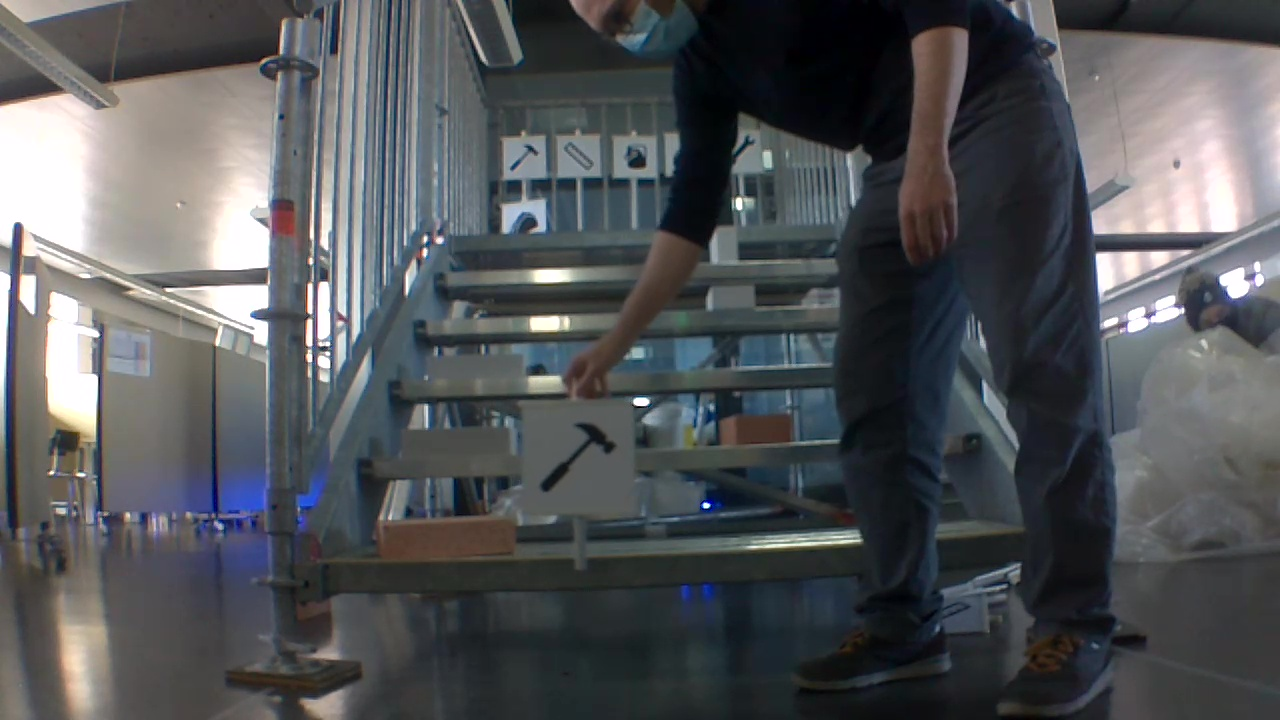brick: (379, 518, 514, 558), (402, 424, 514, 462), (428, 352, 527, 382), (720, 413, 790, 442), (706, 287, 754, 310), (712, 225, 736, 261)
bucket: (620, 142, 650, 168)
hammer: (528, 417, 622, 500), (503, 139, 544, 174)
ruler: (561, 141, 595, 172)
taco: (507, 207, 543, 233)
